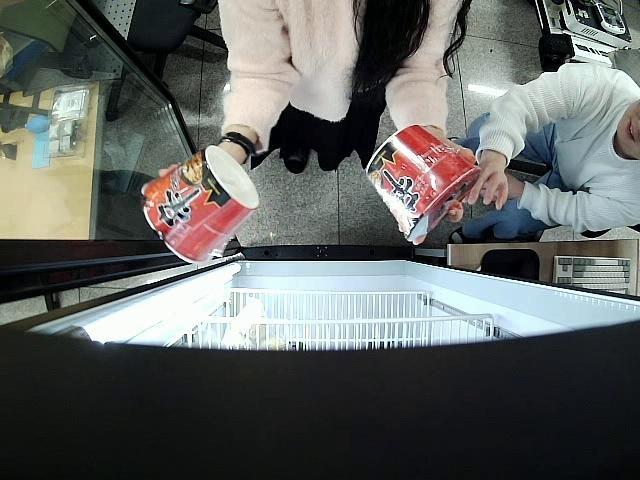01_ShinRamen_L: (142, 144, 260, 264), (365, 123, 480, 238)
